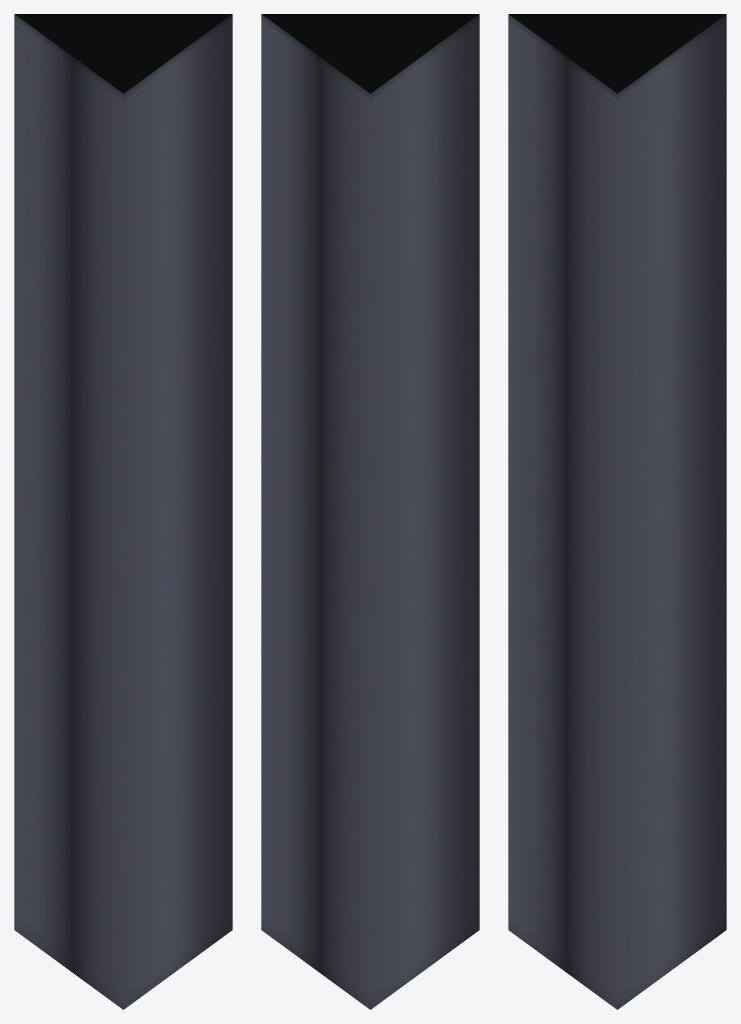
The model's file is Rope_Part.FBX.
3 renders of one model, left to right at view 1: azimuth 30°, elevation 25°; view 2: azimuth 150°, elevation 25°; view 3: azimuth 270°, elevation 25°, orthographic.
Visible parts, largest first — view 1: Rope_Part; view 2: Rope_Part; view 3: Rope_Part.
Boxes of the visible parts, bbox=[...] form: Rope_Part: bbox=[14, 14, 232, 1009]; Rope_Part: bbox=[261, 14, 479, 1009]; Rope_Part: bbox=[508, 14, 726, 1009].
Bounding box in the file's own units: 0.1869 × 1 × 0.2158.
